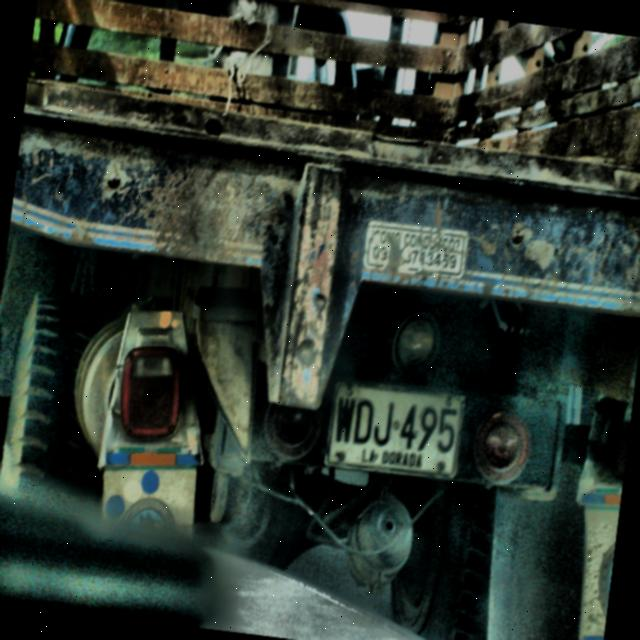4: (397, 402, 421, 451)
5: (434, 407, 459, 456)
9: (416, 404, 440, 454)
D: (351, 397, 377, 446)
J: (371, 399, 396, 448)
W: (332, 396, 357, 445)
